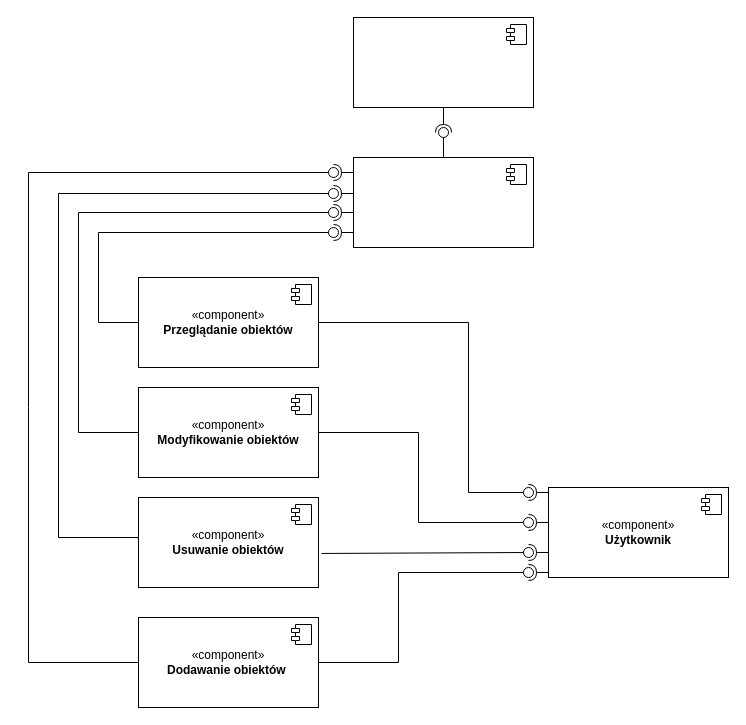
Some shapes in this 746 by 725 pixel diagram are drawn without their labels. Each missing label, with the centre of its shape:
«exe» SSMS 21: the point at 443,202
«file» DB car rental: the point at 443,62
